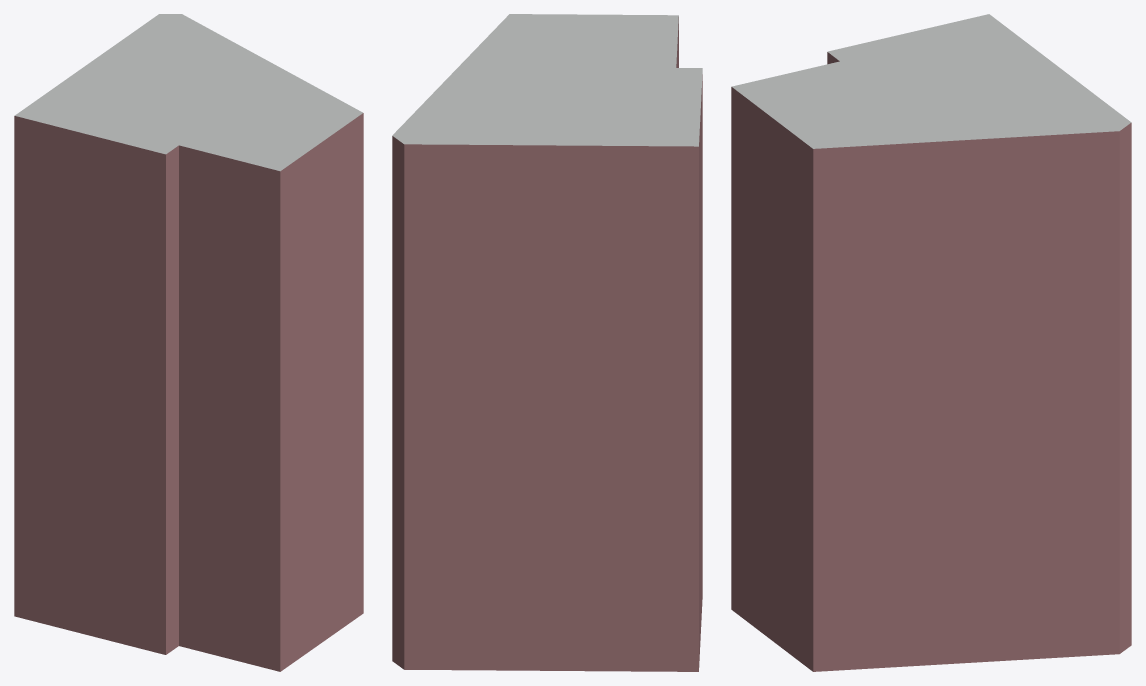
File: nyc-1015240-0.glb
The picture shows the model from 3 angles, left to right: view 1: azimuth 30°, elevation 25°; view 2: azimuth 150°, elevation 25°; view 3: azimuth 270°, elevation 25°; orthographic projection. The views are drawn at different scales.
Parts seen in each view (by area): view 1: nyc-1015240-0; view 2: nyc-1015240-0; view 3: nyc-1015240-0.
Part boxes in pixels (x1=…): nyc-1015240-0: x1=14, y1=14, x2=363, y2=671; nyc-1015240-0: x1=392, y1=14, x2=702, y2=671; nyc-1015240-0: x1=731, y1=14, x2=1131, y2=671.
Bounding box in the file's own units: 48.84 × 88.26 × 61.19.
